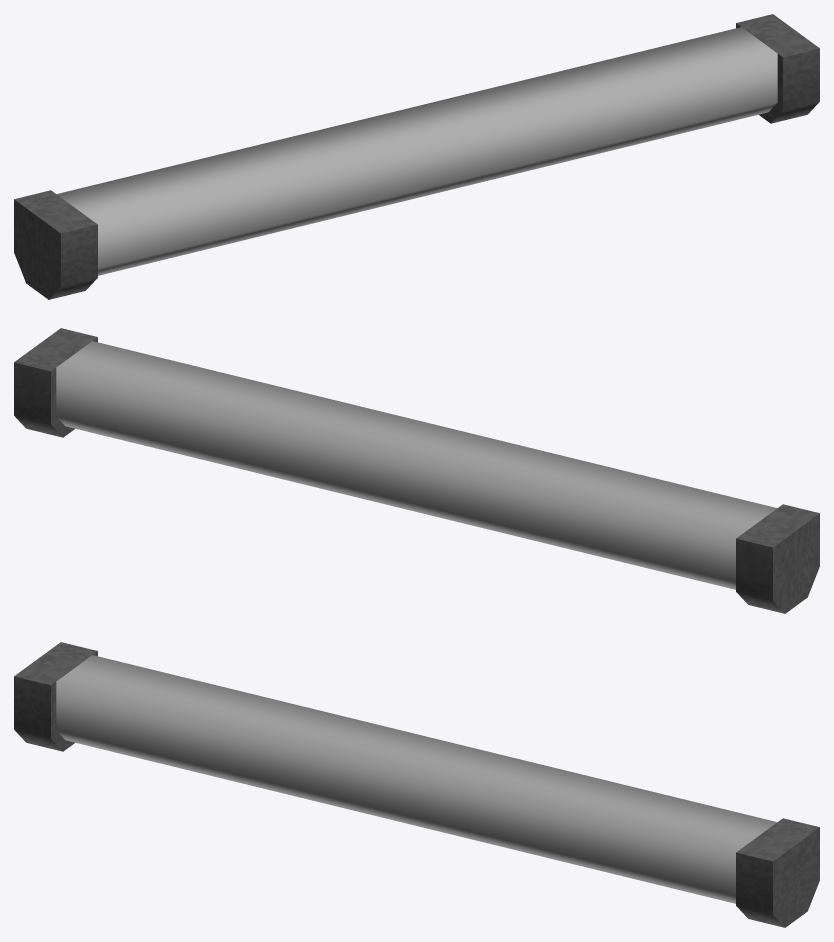
Rendered from light.fbx.
3 views of the same model, one above another, from view 1: azimuth 30°, elevation 25°; view 2: azimuth 150°, elevation 25°; view 3: azimuth 330°, elevation 25° (orthographic).
Visible parts, largest first — view 1: light; view 2: light; view 3: light.
Boxes of the visible parts, x1=… form: light: x1=14, y1=14, x2=819, y2=299; light: x1=14, y1=328, x2=819, y2=613; light: x1=14, y1=642, x2=819, y2=927.
Bounding box in the file's own units: 12.14 × 1.15 × 1.3.
